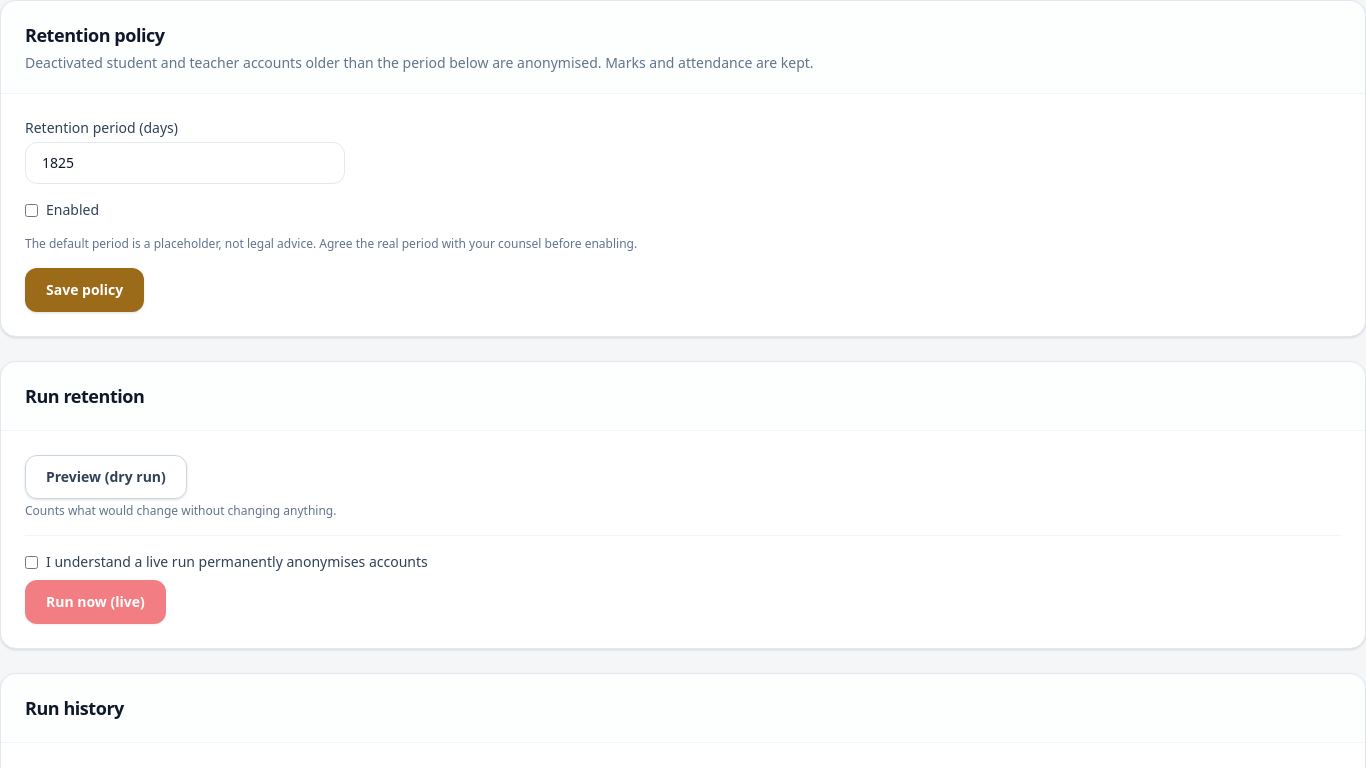
Test: PrivacyRetentionTab › keeps the live run locked while a dry run is pending
Click the checkbox labelled "I understand a live run permanently anonymises accounts". click: (32, 562)
box: [25,556,38,568]
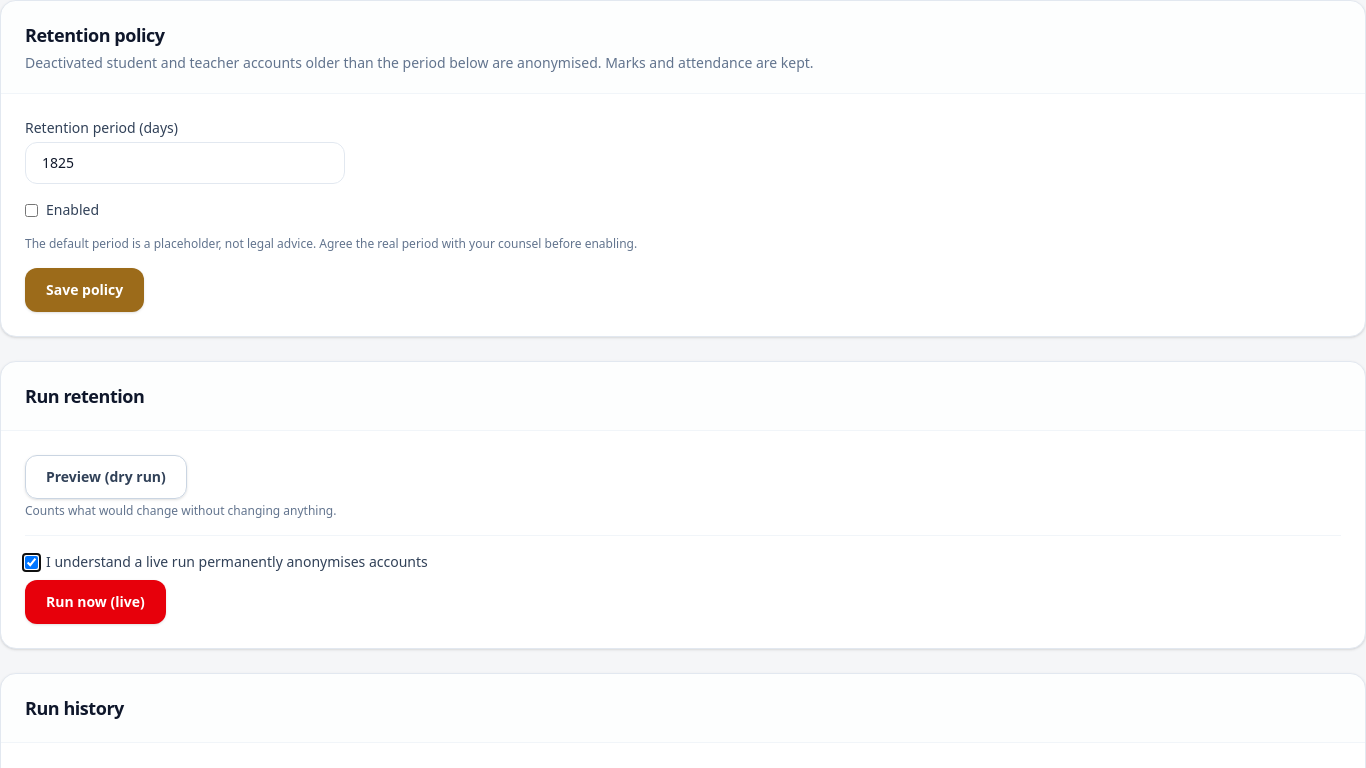
Click the button "Preview (dry run)". click: (106, 477)
box: [25,455,187,499]
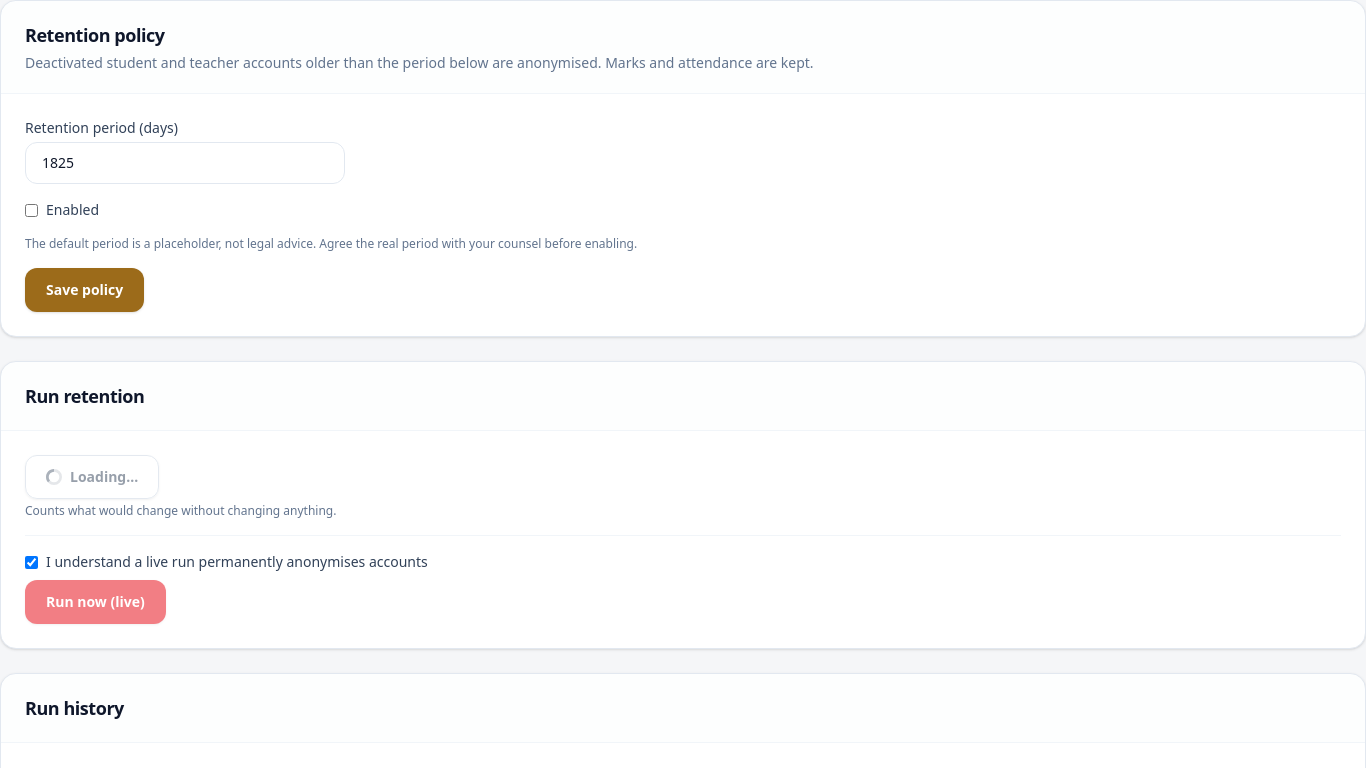
Check: the button "Run now (live)" is disabled, box [25,580,166,624]
